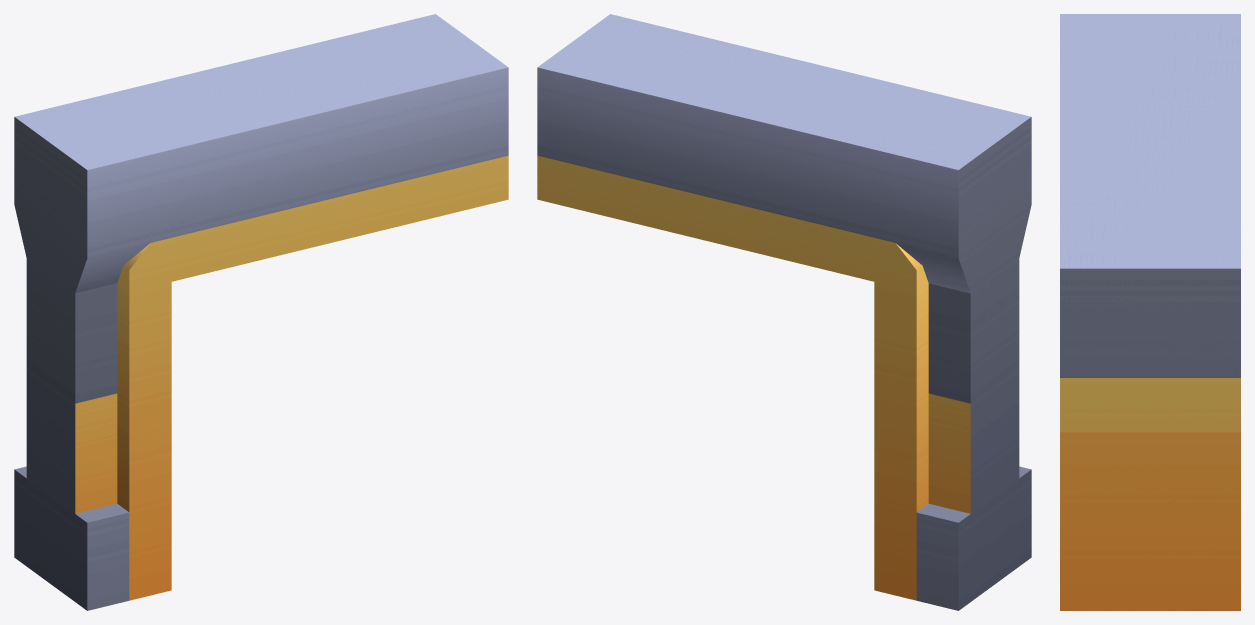
File: wall-door-edge-banner.glb
3 views of the same model, side by side, from view 1: azimuth 30°, elevation 25°; view 2: azimuth 150°, elevation 25°; view 3: azimuth 270°, elevation 25° (orthographic). The views are drawn at different scales.
Visible parts, largest first — view 1: wall-door-edge-banner; view 2: wall-door-edge-banner; view 3: wall-door-edge-banner.
Part boxes in pixels (<box>): wall-door-edge-banner: <box>14,14,508,610</box>; wall-door-edge-banner: <box>537,14,1031,610</box>; wall-door-edge-banner: <box>1060,14,1240,610</box>.
Size of the model in its own units: 1 by 1 by 0.3.
Materials: 1 (1 with a texture image).
